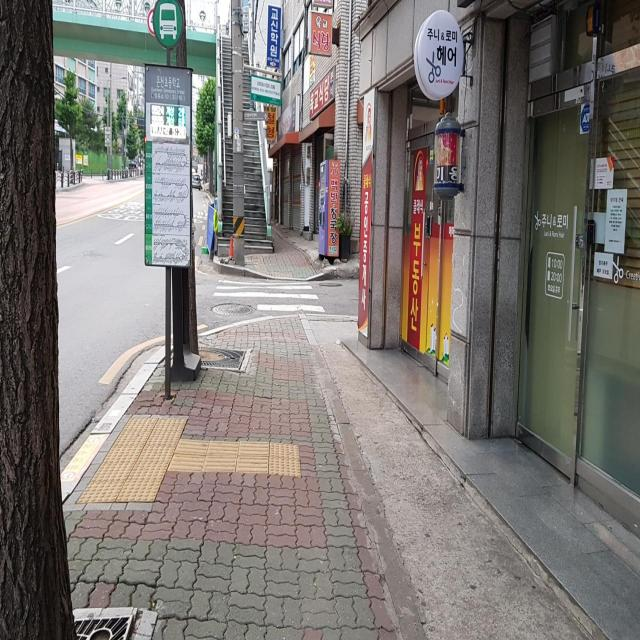횡단보도: (212, 279, 326, 313)
